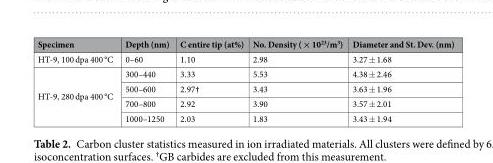table: (36, 37, 453, 124)
table column: (346, 37, 453, 124), (247, 37, 346, 124), (36, 37, 118, 124), (173, 37, 247, 124), (118, 37, 173, 124)
table column header: (36, 37, 453, 51)
table row: (36, 51, 453, 66), (36, 80, 453, 95), (36, 95, 453, 110), (36, 37, 453, 51), (36, 66, 453, 80), (36, 110, 453, 124)
table spanning cell: (36, 66, 118, 124)
